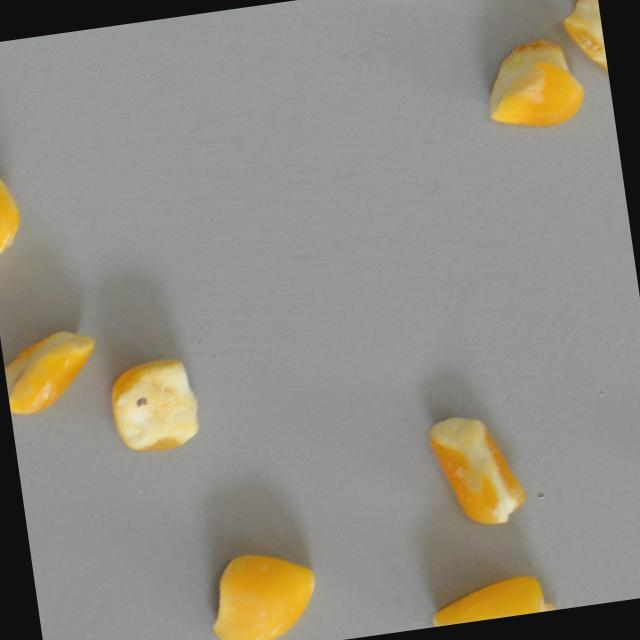dañado: (0, 150, 28, 267)
estandar: (200, 539, 333, 640), (424, 404, 527, 532), (473, 35, 589, 135), (421, 563, 562, 628)
pelicula: (0, 323, 107, 418)
punto_negro: (102, 350, 209, 463), (557, 0, 613, 110)
